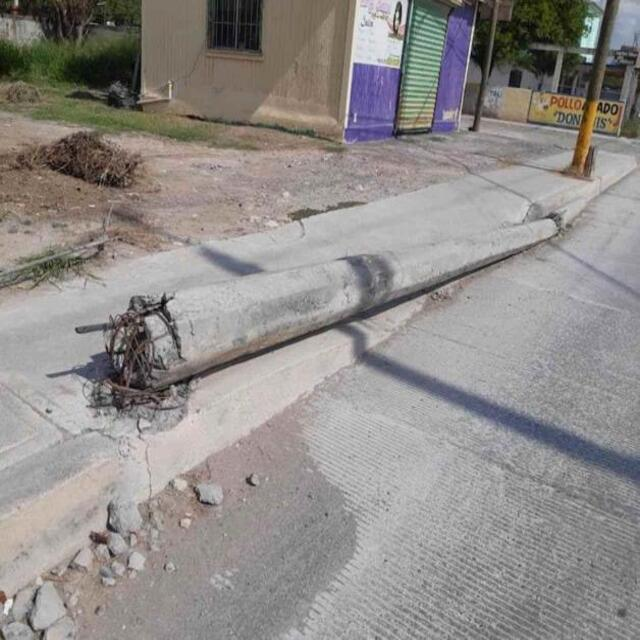Inclined Pole: (106, 213, 556, 398)
